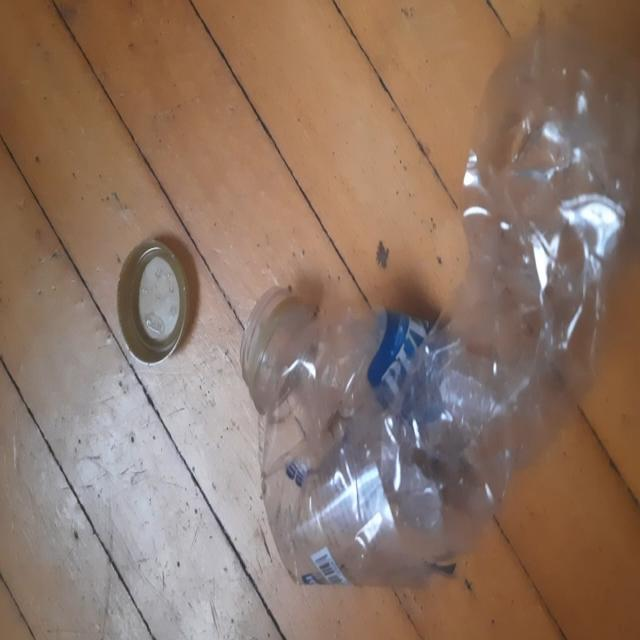Plastic: (250, 19, 636, 588)
